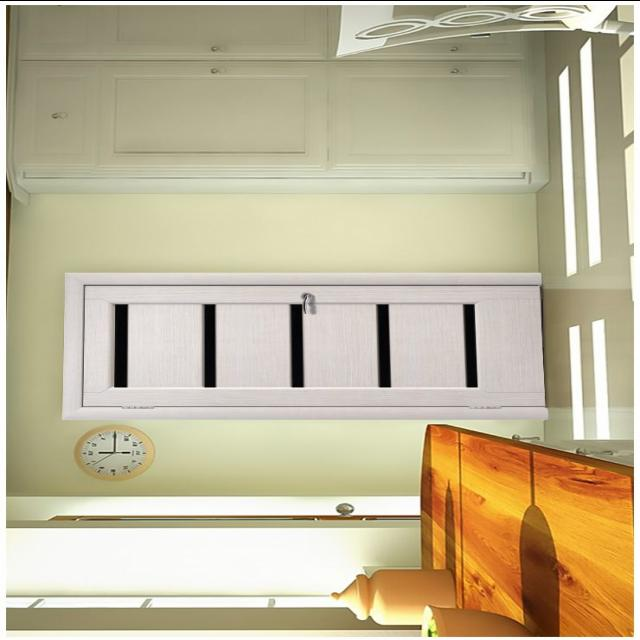close: (81, 276, 550, 414)
